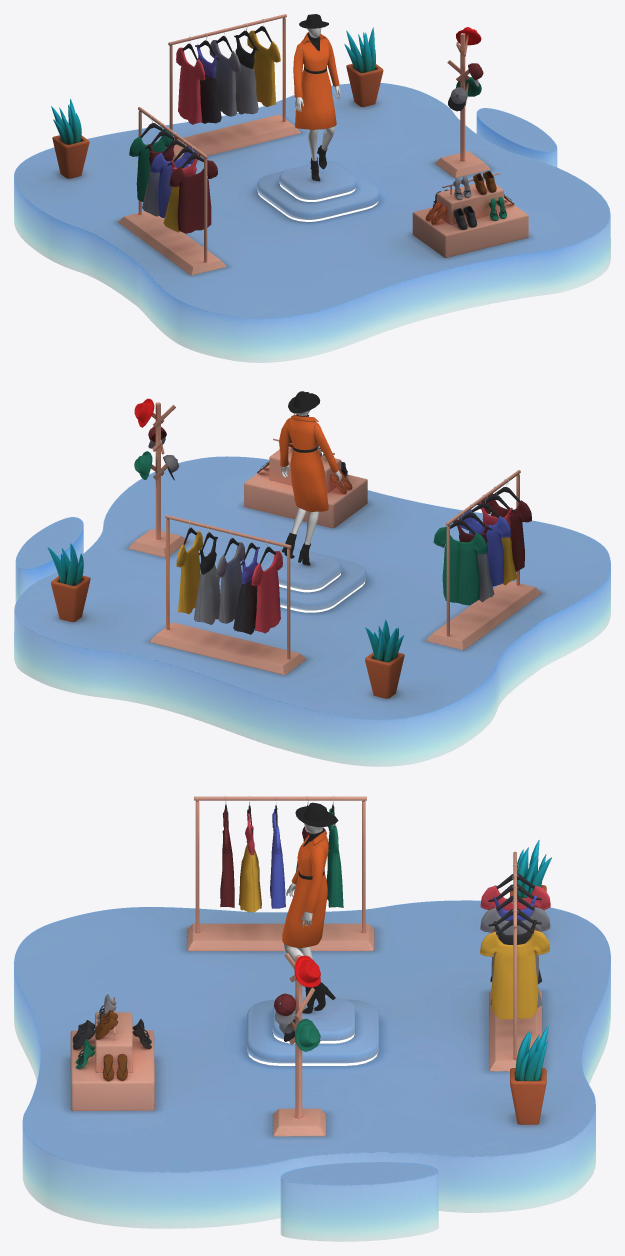
Rendered from LeviCam.glb.
The picture shows the model from 3 angles, top to bottom: view 1: azimuth 30°, elevation 25°; view 2: azimuth 150°, elevation 25°; view 3: azimuth 270°, elevation 25°; orthographic projection. The views are drawn at different scales.
Visible parts, largest first — view 1: LeviCamBase, LeviCamSet, LeviCamManneDrs02, LeviCamManneDrs01, LeviCamManneBdy, LeviCamBsGlw; view 2: LeviCamBase, LeviCamSet, LeviCamManneDrs02, LeviCamManneDrs01, LeviCamManneBdy; view 3: LeviCamBase, LeviCamSet, LeviCamManneDrs02, LeviCamManneDrs01, LeviCamManneBdy.
Part boxes in pixels (bbox=[...]): LeviCamBase: bbox=[14, 83, 610, 362]; LeviCamSet: bbox=[51, 14, 528, 275]; LeviCamManneDrs02: bbox=[293, 32, 339, 129]; LeviCamManneDrs01: bbox=[299, 14, 328, 181]; LeviCamManneBdy: bbox=[295, 28, 340, 161]; LeviCamBsGlw: bbox=[258, 184, 378, 221]; LeviCamBase: bbox=[14, 456, 610, 766]; LeviCamSet: bbox=[47, 398, 541, 698]; LeviCamManneDrs02: bbox=[279, 414, 338, 511]; LeviCamManneDrs01: bbox=[282, 391, 320, 565]; LeviCamManneBdy: bbox=[280, 410, 341, 544]; LeviCamBase: bbox=[14, 900, 610, 1241]; LeviCamSet: bbox=[70, 796, 551, 1136]; LeviCamManneDrs02: bbox=[282, 828, 328, 947]; LeviCamManneDrs01: bbox=[295, 802, 338, 1013]; LeviCamManneBdy: bbox=[284, 823, 323, 962].
Bounding box in the file's own units: 7.58 × 3.58 × 6.72.
7 materials, 4 textured.
